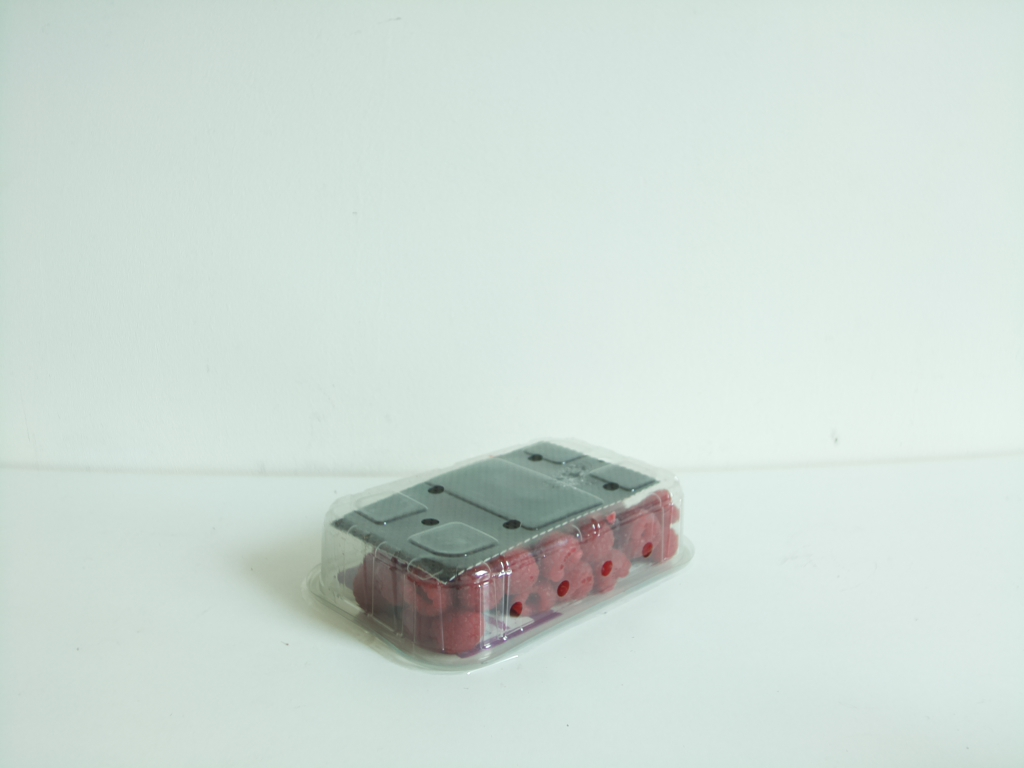soft-fruit: (298, 435, 696, 673)
